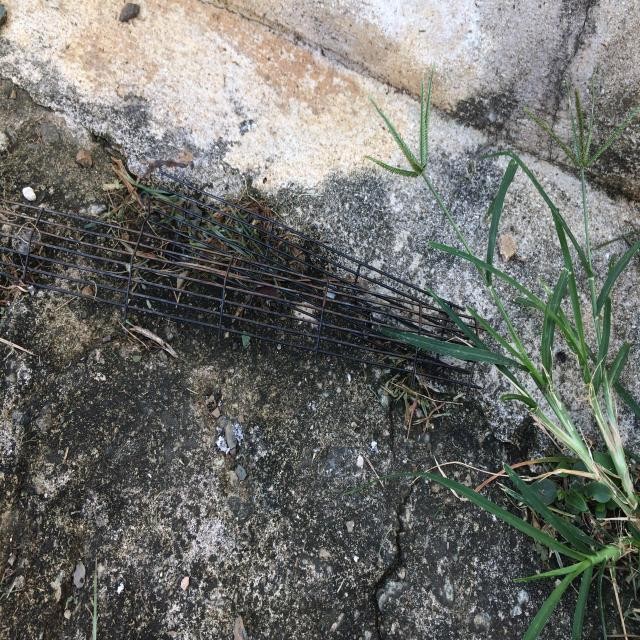litter: (0, 167, 488, 399)
